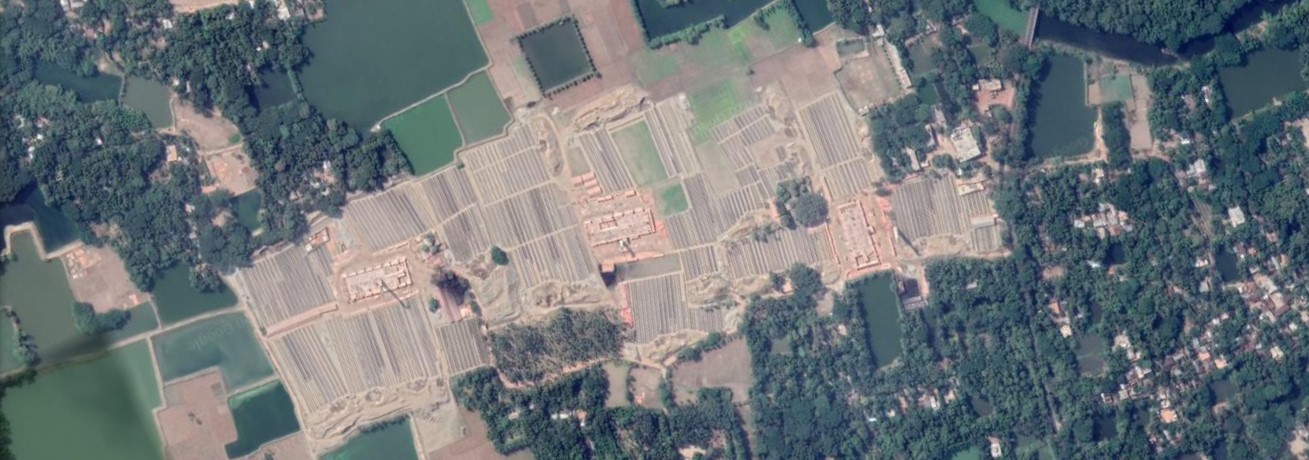kiln: (842, 201, 924, 261), (583, 216, 667, 265), (338, 269, 418, 303)
